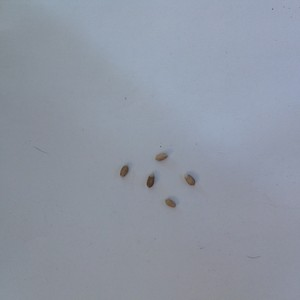trigo: (118, 164, 131, 180), (162, 197, 178, 210), (182, 173, 196, 187), (153, 149, 168, 162), (144, 174, 156, 190)
